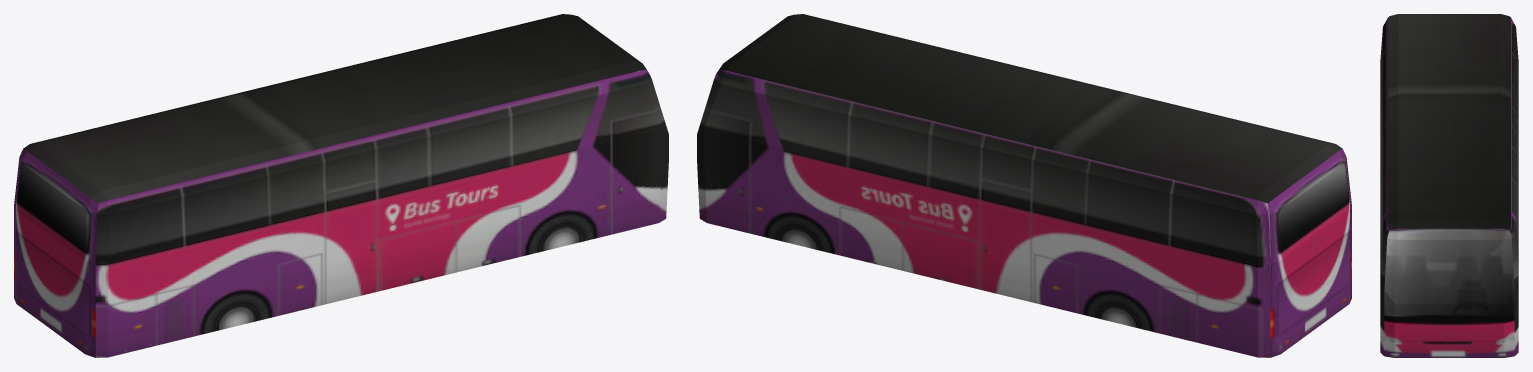
Rendered from BUS.fbx.
The picture shows the model from 3 angles, left to right: view 1: azimuth 30°, elevation 25°; view 2: azimuth 150°, elevation 25°; view 3: azimuth 270°, elevation 25°; orthographic projection. The views are drawn at different scales.
Parts seen in each view (by area): view 1: BUS; view 2: BUS; view 3: BUS.
Part boxes in pixels (x1,y1,x2,y2): BUS: (14, 14, 668, 357); BUS: (697, 14, 1351, 357); BUS: (1380, 14, 1518, 357).
Size of the model in its own units: 1241 by 321 by 321.
